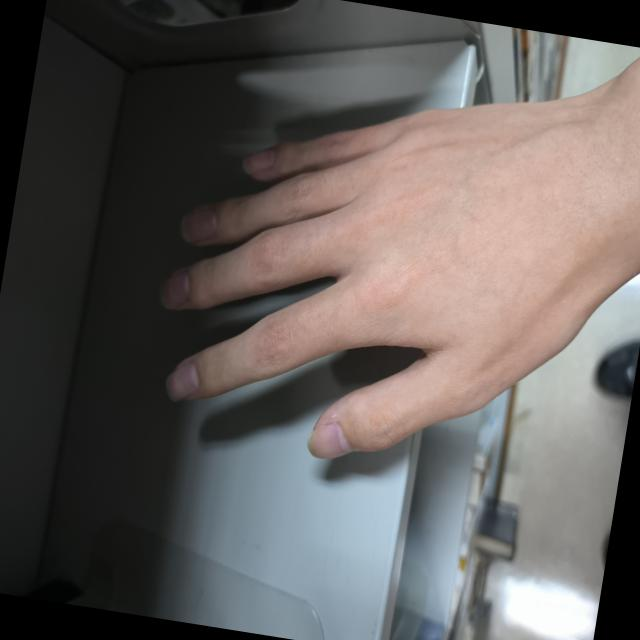Nail: (308, 422, 351, 458), (167, 361, 199, 400), (181, 207, 216, 242), (161, 271, 190, 307), (243, 149, 275, 174)
